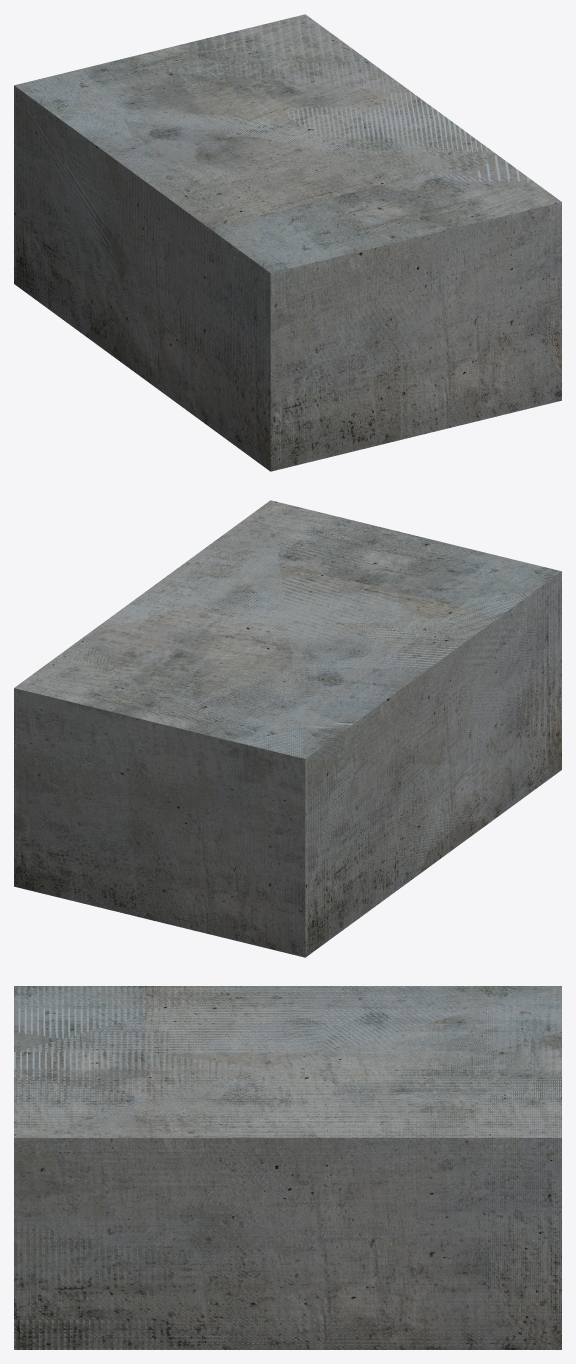
File: border_column.dae
3 views of the same model, one above another, from view 1: azimuth 30°, elevation 25°; view 2: azimuth 150°, elevation 25°; view 3: azimuth 270°, elevation 25° (orthographic). The views are drawn at different scales.
Parts seen in each view (by area): view 1: Component_1; view 2: Component_1; view 3: Component_1.
Part boxes in pixels (<box>): Component_1: <box>14,14,561,471</box>; Component_1: <box>14,500,561,957</box>; Component_1: <box>14,986,561,1349</box>.
Bounding box in the file's own units: 115 × 175 × 74.88.
